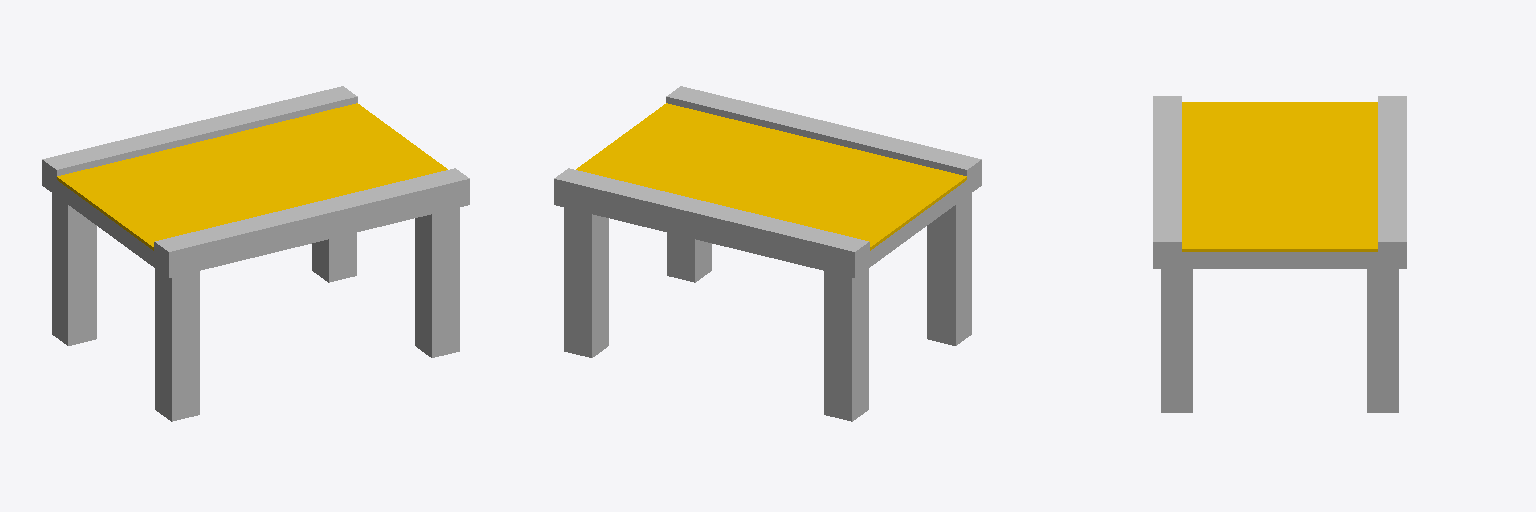
3 views of the same model, side by side, from view 1: azimuth 30°, elevation 25°; view 2: azimuth 150°, elevation 25°; view 3: azimuth 270°, elevation 25° (orthographic).
Parts seen in each view (by area): view 1: plataformas-1; view 2: plataformas-1; view 3: plataformas-1.
Boxes of the visible parts, x1,y1,x2,y2 form: plataformas-1: [42, 86, 469, 421]; plataformas-1: [554, 86, 981, 421]; plataformas-1: [1153, 96, 1406, 412].
Size of the model in its own units: 9.6 by 5.3 by 7.
1 materials, 1 textured.